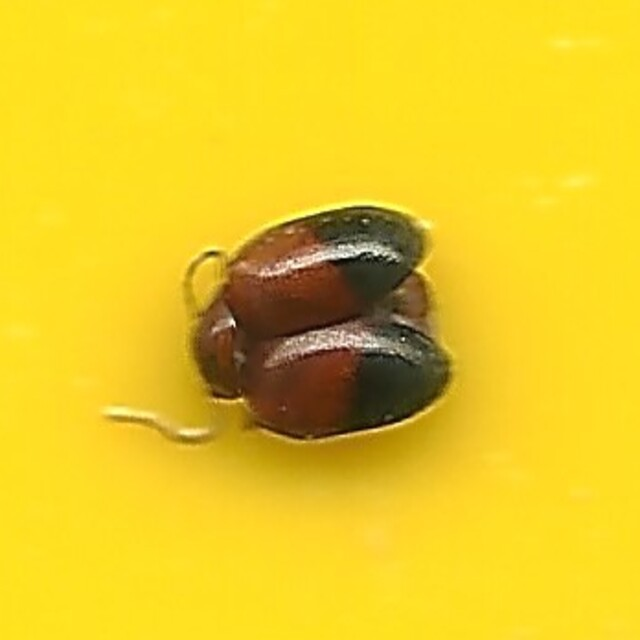Coleoptera: (184, 203, 456, 437)
